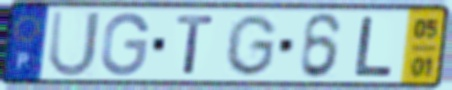6: (298, 11, 343, 81)
G: (222, 13, 280, 79), (98, 10, 152, 78)
L: (351, 14, 396, 79)
T: (174, 13, 218, 77)
U: (46, 9, 103, 79)
